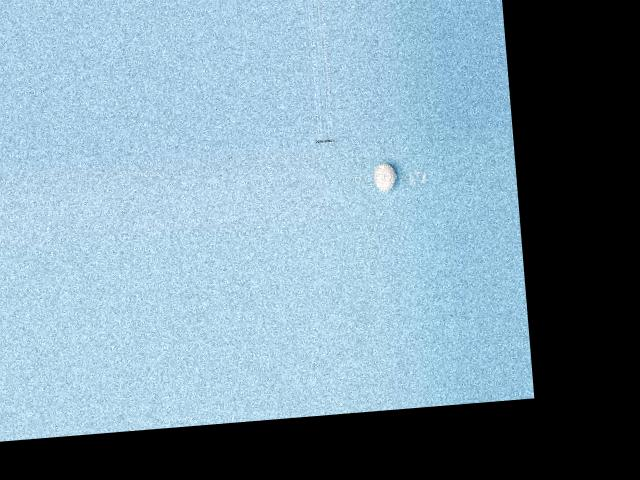egg: (372, 162, 396, 191)
